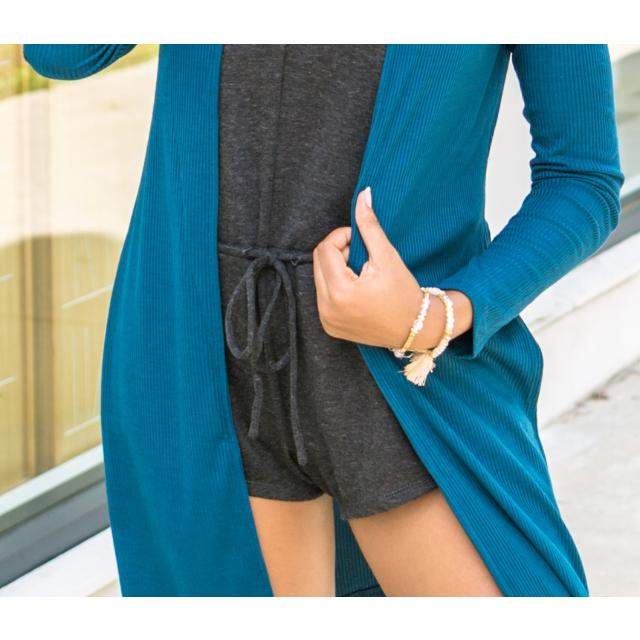polyester: (17, 43, 623, 503)
